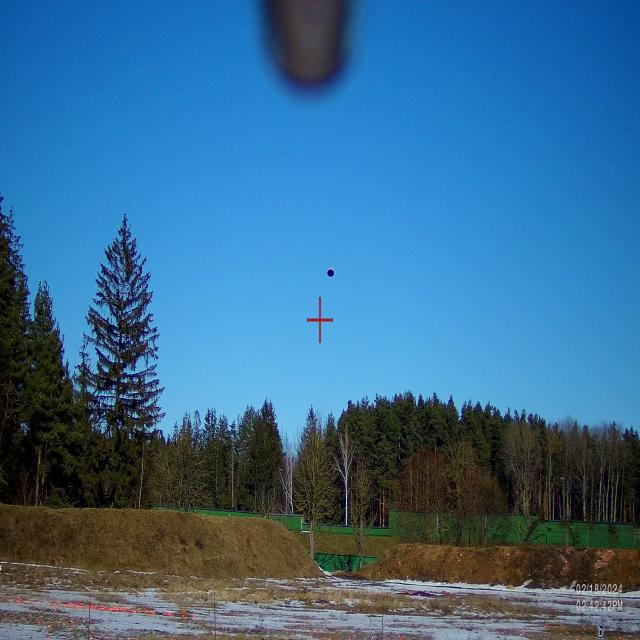entire: (321, 261, 336, 285)
